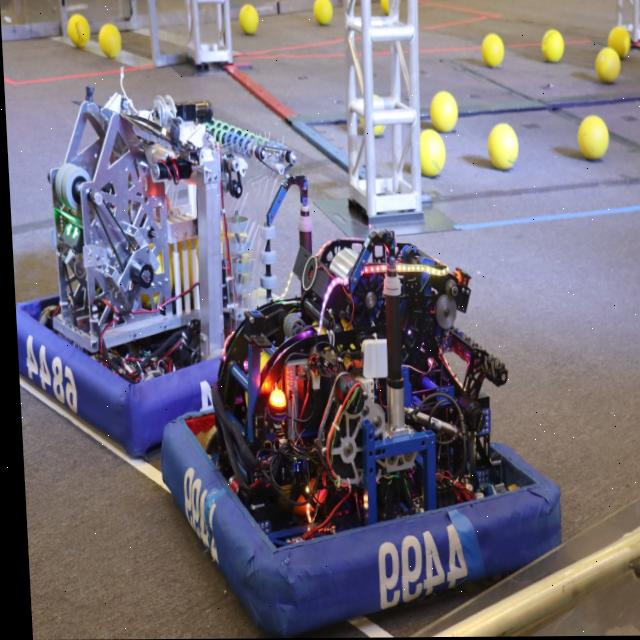robot: (150, 228, 566, 621), (4, 84, 320, 455)
